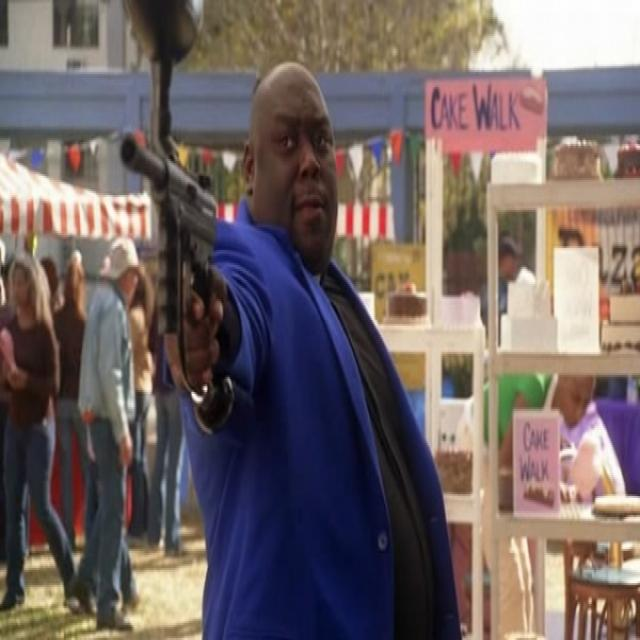rifle: (118, 126, 217, 347)
